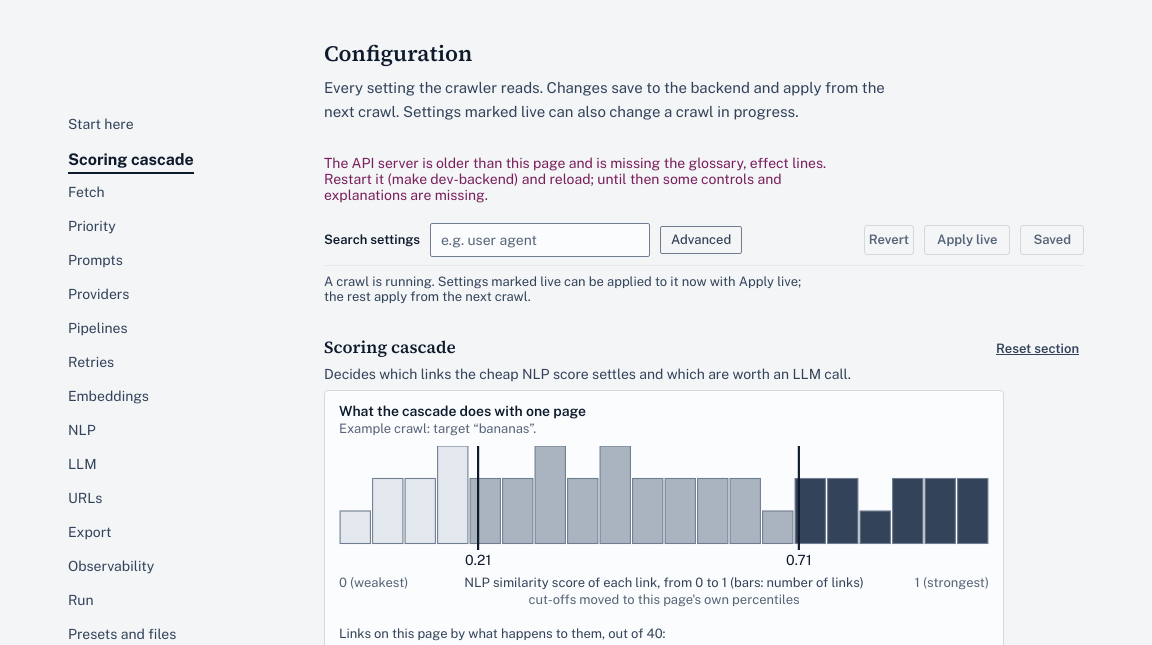
Test: ConfigPage › filters settings by search across sections
expect the heading "Scoring cascade" is shown: met, box x1=324 y1=336 x2=456 y2=358
In the search field labelled "Search settings": (540, 240) x1=430 y1=223 x2=650 y2=257, type "user agent"
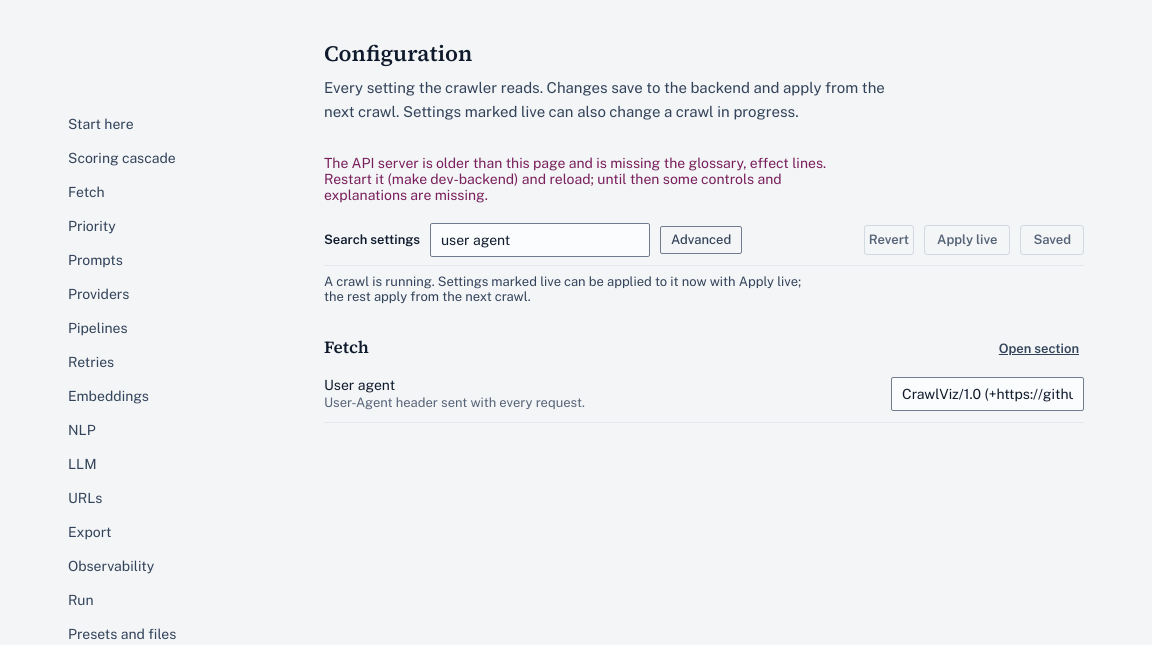
expect the field labelled "User agent" is shown: met, box x1=891 y1=377 x2=1084 y2=411
